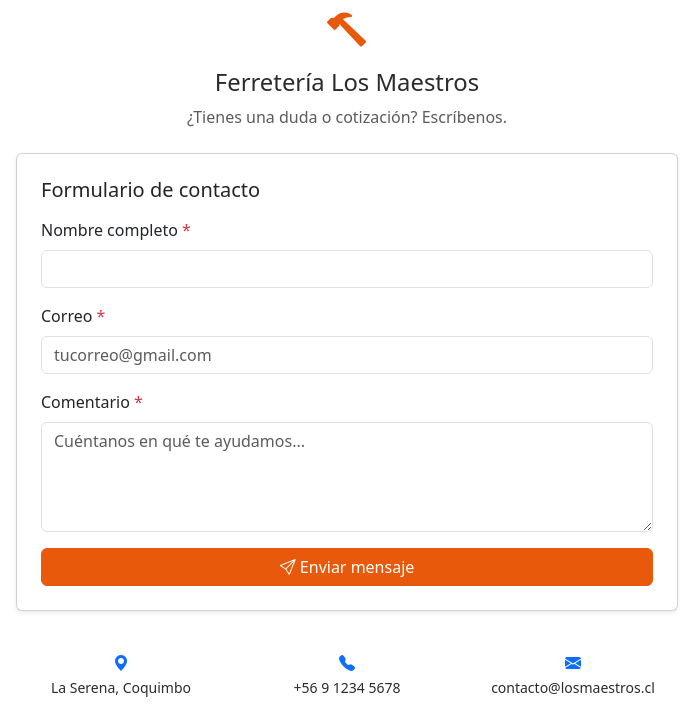
Test case: Página Contacto › con datos válidos muestra el éxito y limpia el formulario
The width and height of the screenshot is (695, 714).
Type "Segas" into the field labelled "Nombre completo *".
click(347, 269); type("Segas")  # box [41,250,653,288]
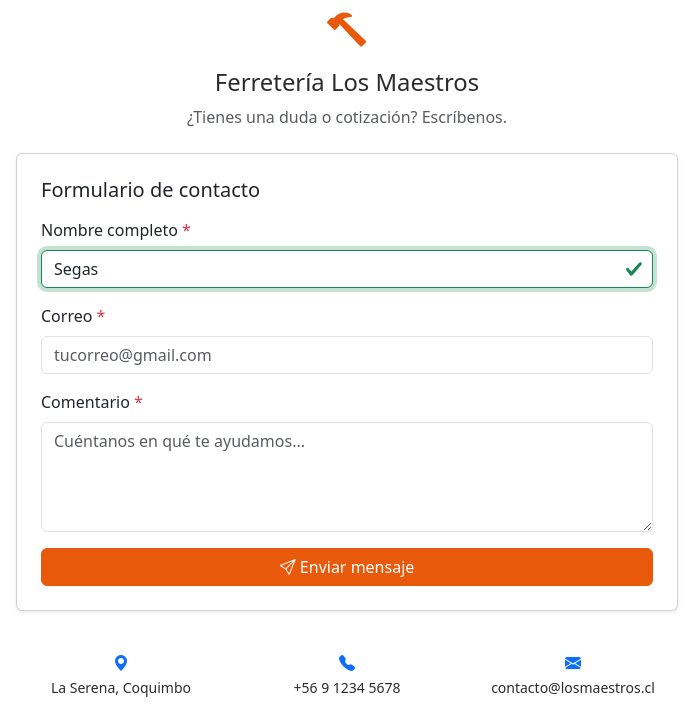
Type "segas@duoc.cl" into the field labelled "Correo *".
click(347, 355); type("segas@duoc.cl")  # box [41,336,653,374]
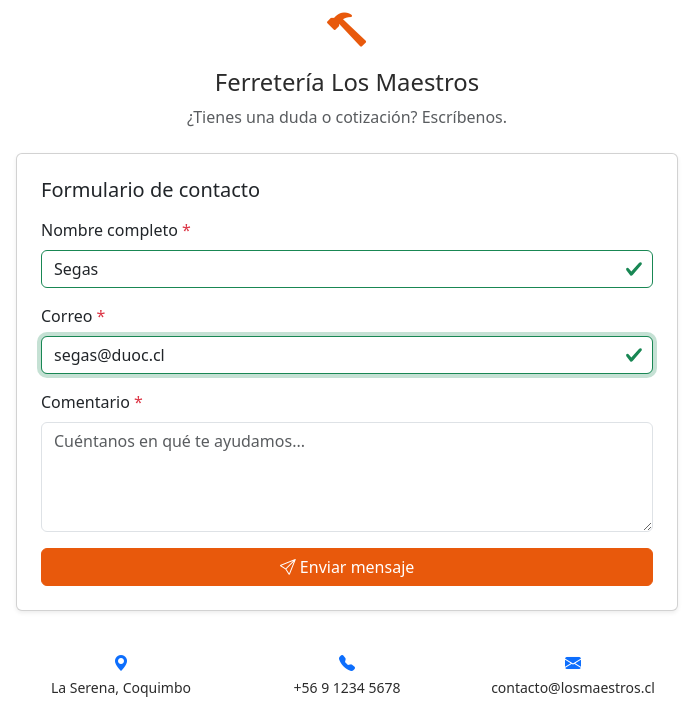
Type "Necesito cotizar cemento" into the text box labelled "Comentario *".
click(347, 477); type("Necesito cotizar cemento")  # box [41,422,653,532]
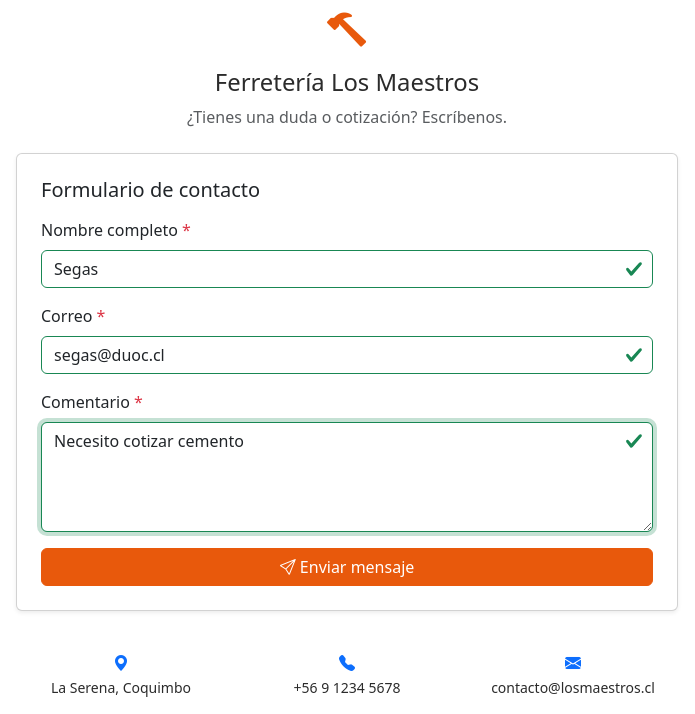
Click the button "Enviar mensaje".
click(347, 567)  # box [41,548,653,586]
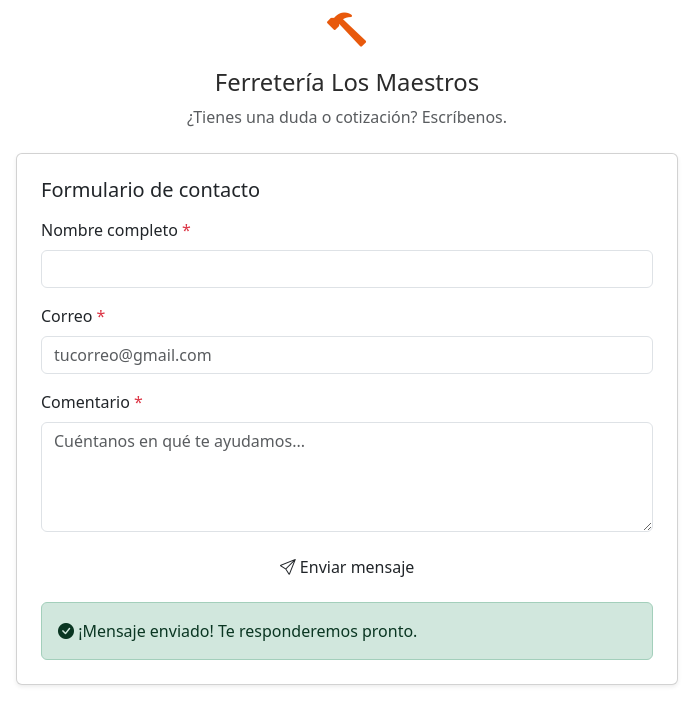
Check: the message shows "¡Mensaje enviado!", box [74,620,417,642]
Check: the field labelled "Nombre completo *" is empty, box [41,250,653,288]
